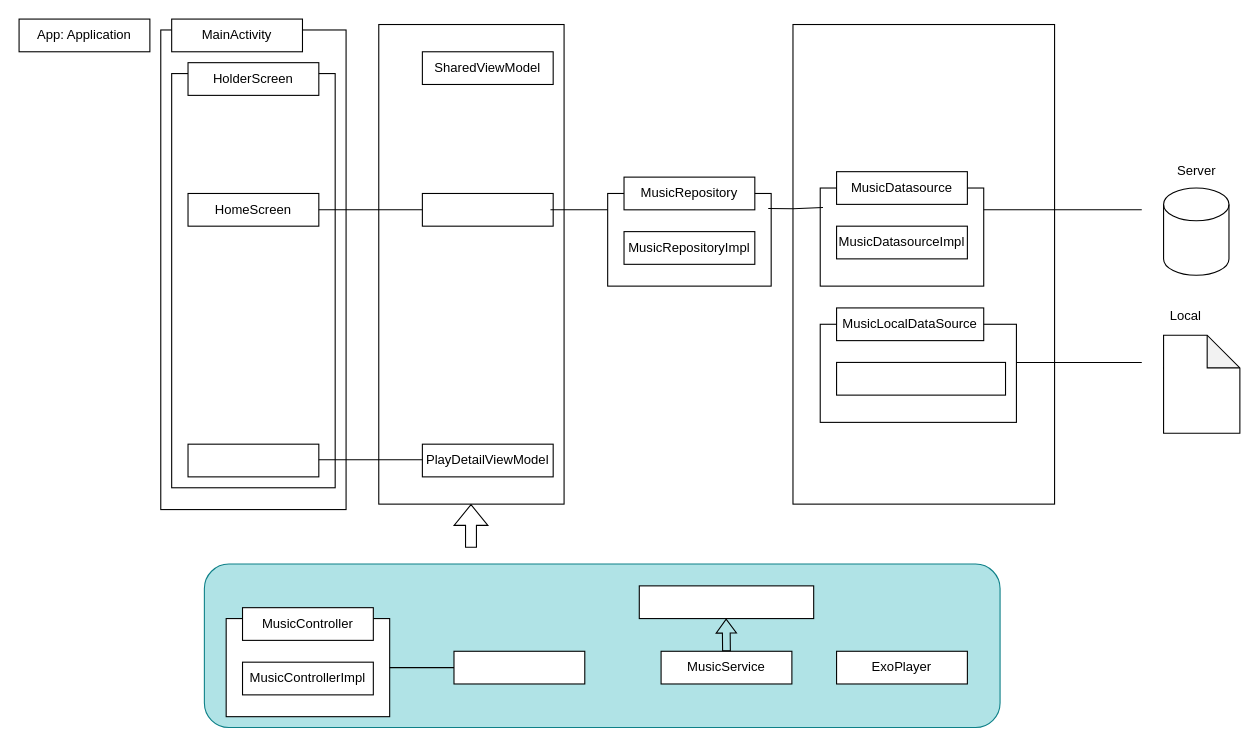
Some shapes in this 1259 by 747 pixel diagram are drawn without their labels. The shapes that lost their labels are listed below. From the top down, each one's centre as x and y in pixels, then its label:
the point at 487,209: HomeViewModel
the point at 920,378: MusicLocalDataSourceImpl
the point at 253,460: PlayDetailScreen
the point at 726,602: androidx.media3.sessions .MediaSessionService
the point at 519,667: androidx.media3 .MediaController
